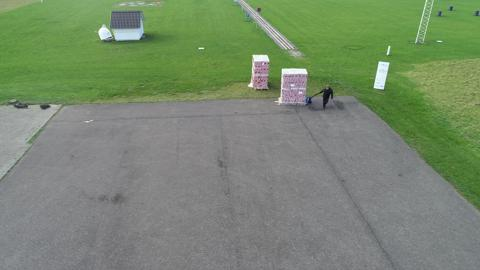RockwoolPallet: (250, 56, 270, 89)
